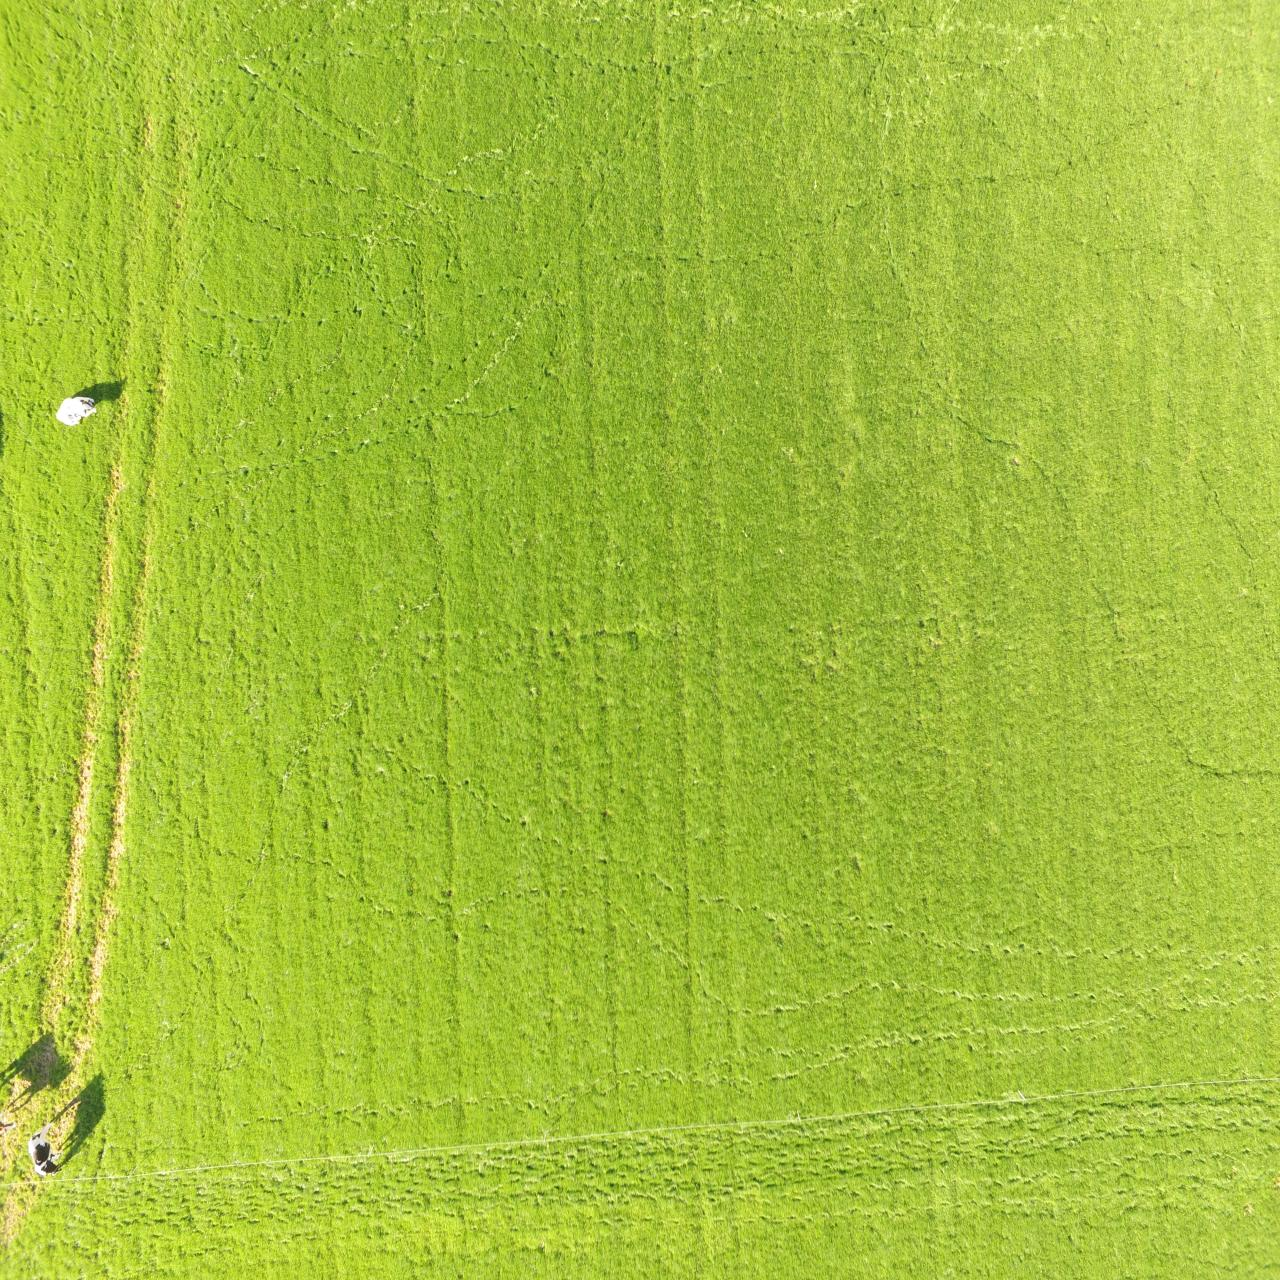cow: (28, 1118, 62, 1178), (56, 394, 97, 425)
